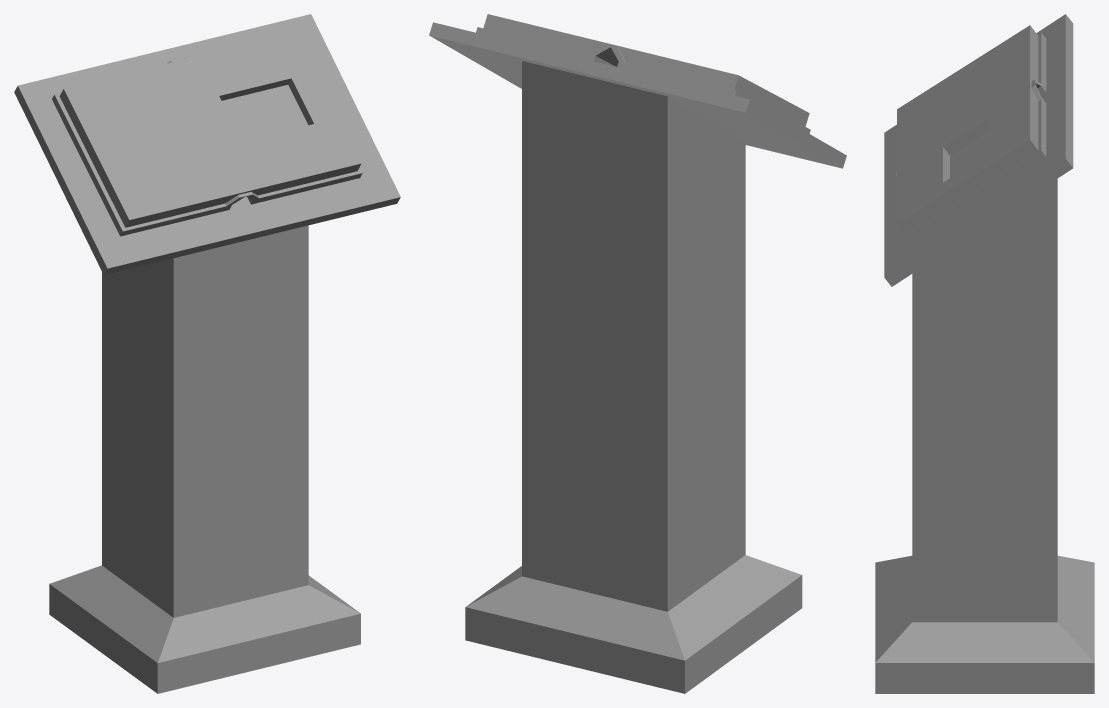
The model's file is terbuka.fbx.
3 renders of one model, left to right at view 1: azimuth 30°, elevation 25°; view 2: azimuth 150°, elevation 25°; view 3: azimuth 270°, elevation 25°, orthographic. The views are drawn at different scales.
Visible parts, largest first — view 1: Cube, Cube.001, Cube.005, Cube.006, Cube.004, Cube.007; view 2: Cube, Cube.001, Cube.005, Cube.006, Cube.004, Cube.007; view 3: Cube, Cube.001, Cube.006, Cube.005, Cube.007, Cube.004.
Boxes of the visible parts, bbox=[...] form: Cube: bbox=[49, 225, 360, 693]; Cube.001: bbox=[14, 14, 400, 275]; Cube.005: bbox=[59, 60, 248, 227]; Cube.006: bbox=[176, 32, 361, 195]; Cube.004: bbox=[52, 59, 245, 236]; Cube.007: bbox=[177, 57, 362, 204]; Cube: bbox=[465, 61, 802, 693]; Cube.001: bbox=[429, 22, 846, 168]; Cube.005: bbox=[614, 45, 809, 126]; Cube.006: bbox=[483, 14, 616, 54]; Cube.004: bbox=[611, 47, 810, 133]; Cube.007: bbox=[476, 27, 618, 66]; Cube: bbox=[875, 179, 1094, 693]; Cube.001: bbox=[884, 14, 1073, 286]; Cube.006: bbox=[897, 81, 1038, 234]; Cube.005: bbox=[897, 25, 1038, 167]; Cube.007: bbox=[895, 83, 1046, 244]; Cube.004: bbox=[895, 32, 1046, 170].
Size of the model in its own units: 273 by 492 by 175.
